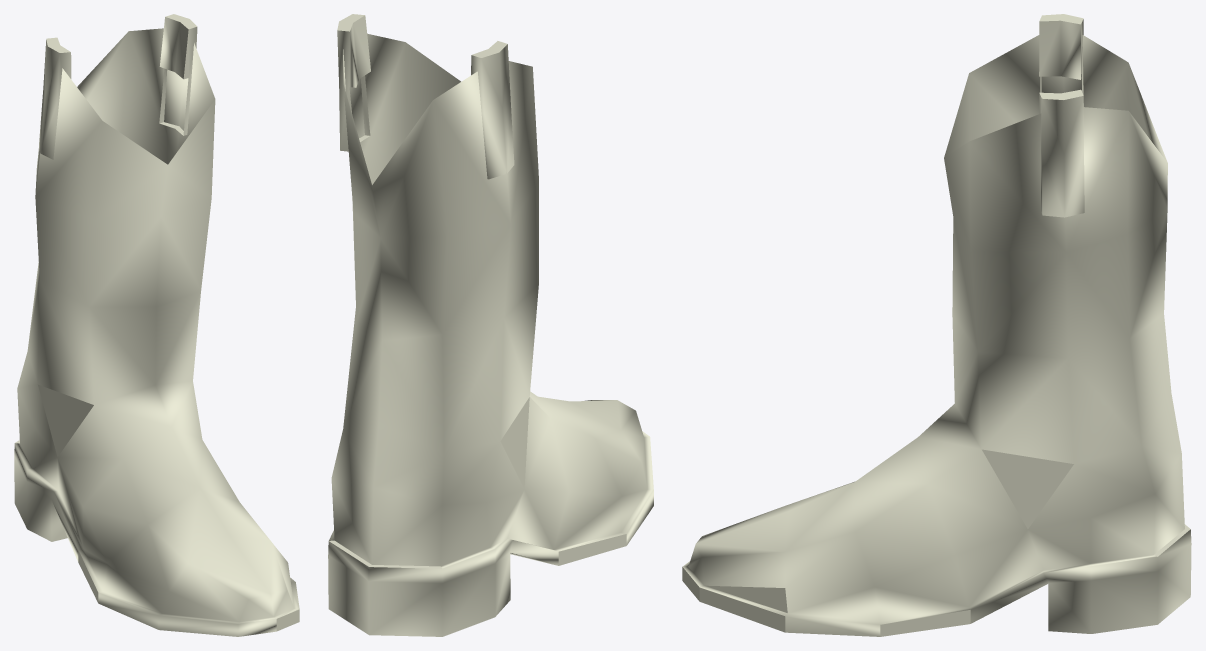
Rendered from single_boot.fbx.
3 renders of one model, left to right at view 1: azimuth 30°, elevation 25°; view 2: azimuth 150°, elevation 25°; view 3: azimuth 270°, elevation 25°, orthographic. The views are drawn at different scales.
Parts seen in each view (by area): view 1: node-0; view 2: node-0; view 3: node-0.
Boxes of the visible parts, bbox=[...] form: node-0: bbox=[14, 14, 299, 636]; node-0: bbox=[328, 14, 653, 636]; node-0: bbox=[682, 14, 1191, 636].
Size of the model in its own units: 122 by 329 by 276.
